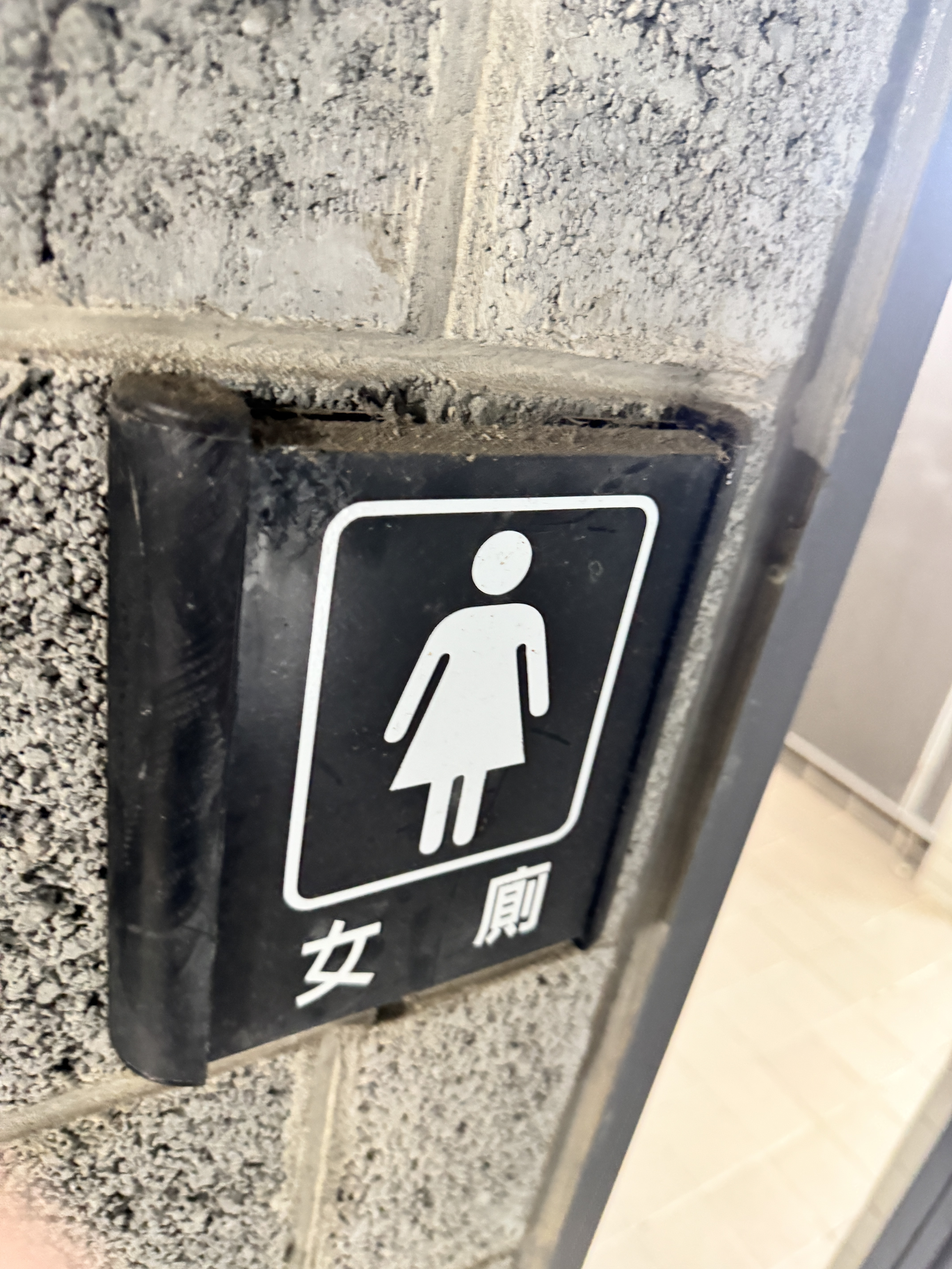toilet_sign: (93, 363, 761, 1099), (87, 366, 665, 1032)
